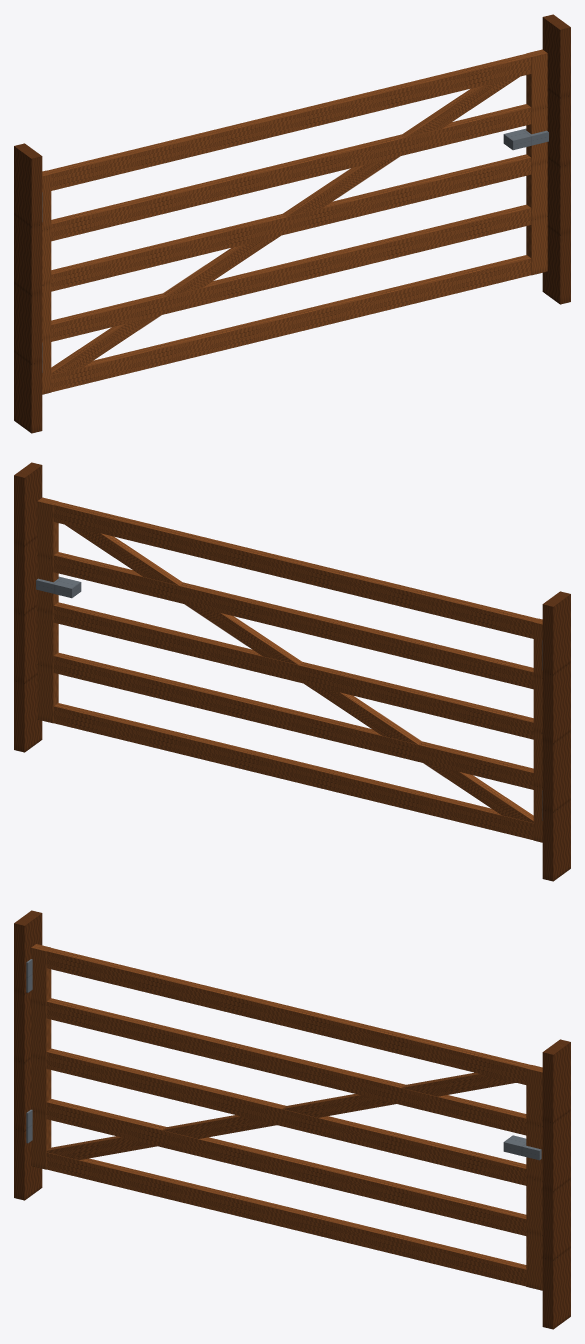
The model's file is farm-and-working-animals-hd-fence-gate-ab140406__29208.glb.
3 renders of one model, top to bottom at view 1: azimuth 30°, elevation 25°; view 2: azimuth 150°, elevation 25°; view 3: azimuth 330°, elevation 25°, orthographic.
Parts seen in each view (by area): view 1: gate, fence-gate; view 2: gate, fence-gate; view 3: gate, fence-gate.
Part boxes in pixels (x1,y1,x2,y2): gate: [42, 49, 547, 394]; fence-gate: [14, 14, 570, 433]; gate: [37, 497, 542, 842]; fence-gate: [14, 462, 570, 881]; gate: [31, 944, 542, 1290]; fence-gate: [14, 910, 570, 1329].
Size of the model in its own units: 3 by 1.46 by 0.1699.
Materials: 3 (3 with a texture image).
